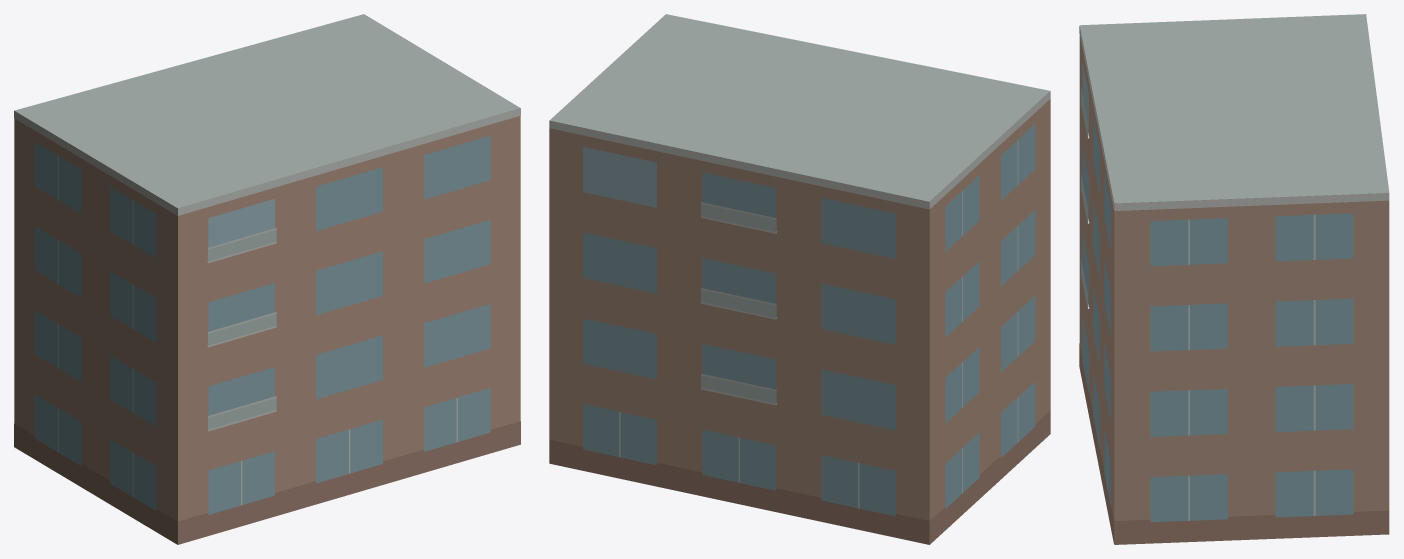
File: survey-upis-32528007.glb
The picture shows the model from 3 angles, left to right: view 1: azimuth 30°, elevation 25°; view 2: azimuth 150°, elevation 25°; view 3: azimuth 270°, elevation 25°; orthographic projection.
Visible parts, largest first — view 1: survey-upis-32528007.tmp; view 2: survey-upis-32528007.tmp; view 3: survey-upis-32528007.tmp.
Part boxes in pixels (<box>): survey-upis-32528007.tmp: <box>14,14,520,544</box>; survey-upis-32528007.tmp: <box>549,14,1050,544</box>; survey-upis-32528007.tmp: <box>1079,14,1389,544</box>.
Size of the model in its own units: 12.98 by 10.9 by 8.98.
